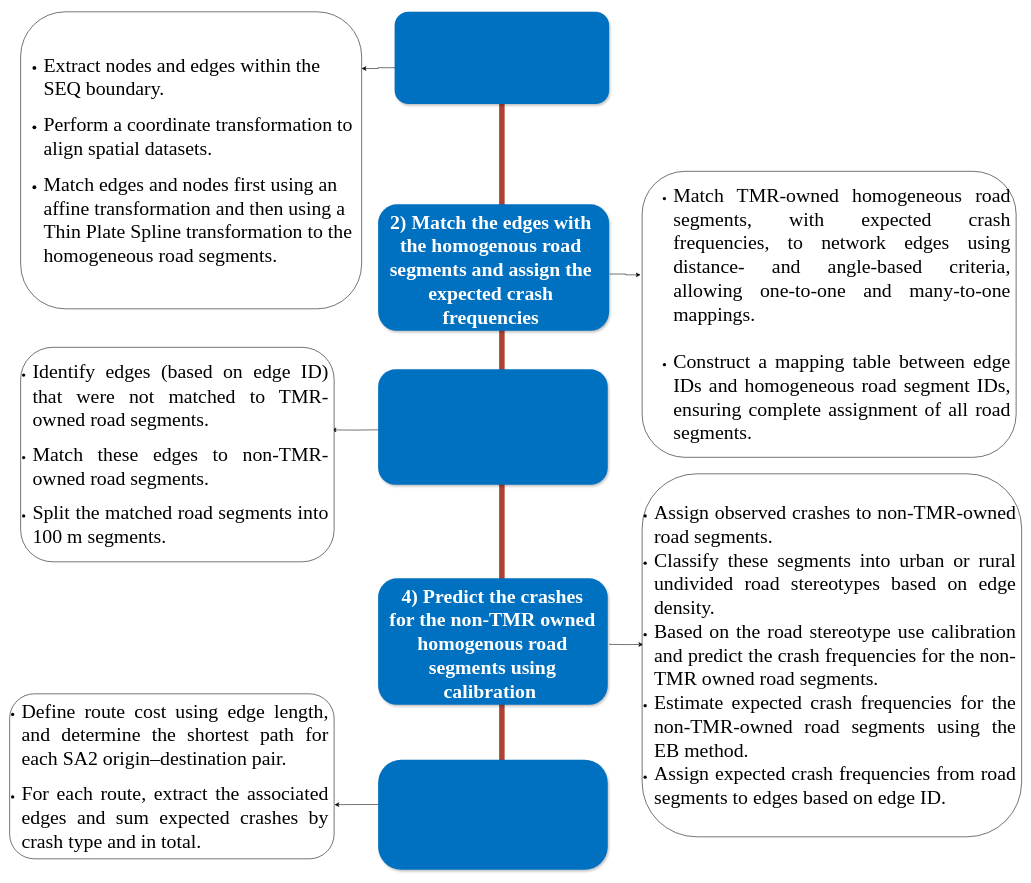
Image size: 1031x883. Some labels were removed from this diagram. The centre of each missing label's shape, as x and y in pixels:
"1) Prepare the edges and nodes for SEQ" belongs at (x=502, y=58).
"3) Identify the edges which were not matched as they were not owned by the TMR" belongs at (x=493, y=427).
"5) Obtain the OD crash matrix based on edges and minimum distance" belongs at (x=493, y=815).
